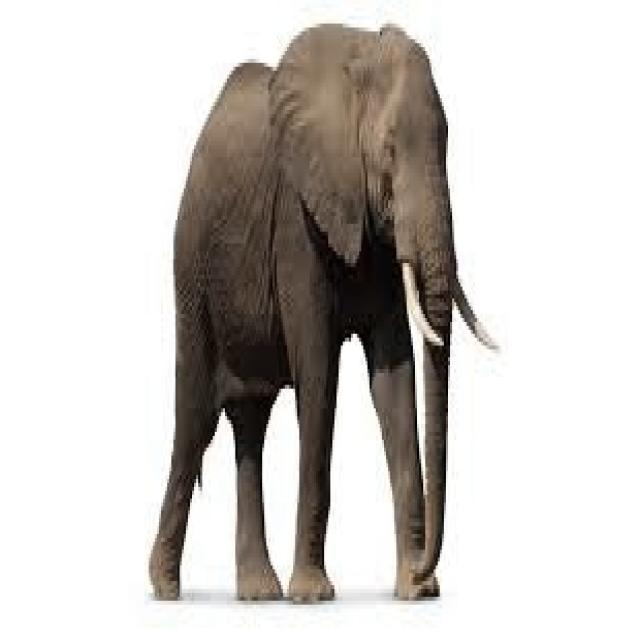elephant: (151, 24, 495, 597)
